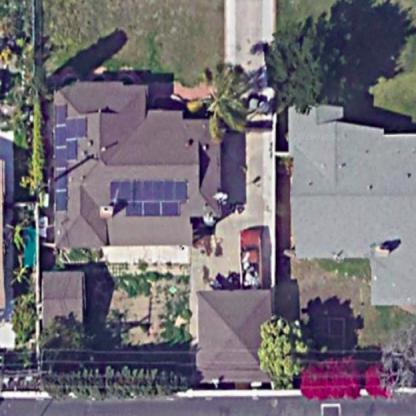car: (240, 215, 266, 295)
solar_panel: (52, 94, 91, 220), (105, 172, 191, 221)
